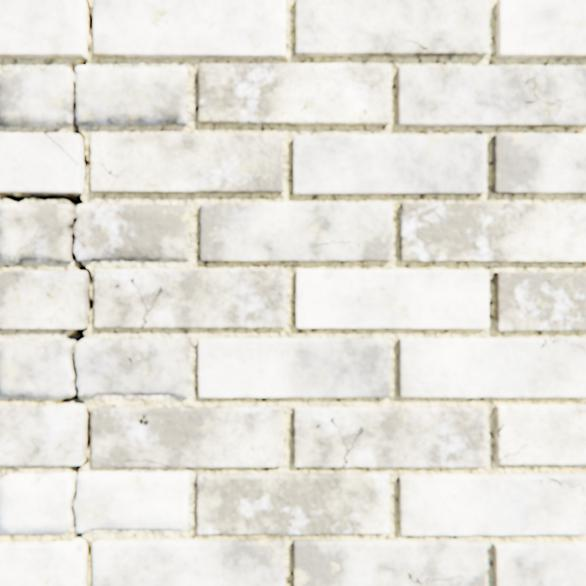brick: (398, 472, 585, 534), (198, 472, 388, 533), (294, 406, 486, 466), (198, 65, 389, 125), (92, 406, 283, 466), (396, 67, 585, 127), (92, 134, 283, 193), (94, 0, 284, 59), (295, 270, 487, 328), (293, 136, 484, 194), (95, 269, 286, 327), (398, 337, 585, 396), (199, 338, 389, 396), (201, 203, 391, 261), (295, 0, 487, 57), (399, 203, 585, 261), (293, 537, 484, 585), (93, 538, 284, 585), (491, 135, 585, 193), (493, 404, 585, 463), (493, 272, 585, 330), (495, 0, 585, 59), (0, 404, 85, 464), (0, 0, 86, 58), (0, 271, 86, 328), (0, 134, 82, 192), (492, 540, 585, 585), (0, 540, 85, 585)
broken_brick: (74, 471, 189, 531), (75, 338, 190, 396), (76, 67, 188, 126), (74, 204, 189, 261), (0, 472, 72, 532), (0, 68, 72, 127), (0, 339, 73, 397), (0, 204, 72, 261)
crack: (0, 0, 93, 585), (131, 277, 163, 327), (46, 134, 79, 166), (340, 424, 363, 466), (99, 162, 125, 187), (497, 443, 526, 462), (519, 75, 535, 97), (565, 481, 585, 495), (405, 571, 422, 585), (315, 240, 350, 246), (330, 416, 341, 435), (404, 41, 427, 50), (135, 459, 169, 465), (33, 221, 43, 238), (571, 343, 585, 355), (553, 100, 563, 116), (18, 241, 31, 253), (546, 475, 563, 484), (497, 422, 506, 436), (139, 414, 149, 424), (443, 574, 463, 578), (539, 338, 545, 348), (127, 355, 133, 365), (581, 499, 585, 512), (547, 338, 559, 342), (524, 99, 536, 103), (91, 162, 97, 170), (424, 577, 439, 580)
